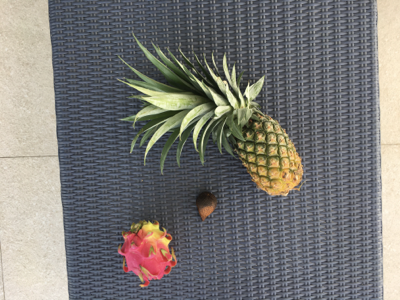dragon fruit: (119, 220, 177, 289)
pineapple: (118, 29, 303, 198)
snake fruit: (196, 192, 218, 223)
